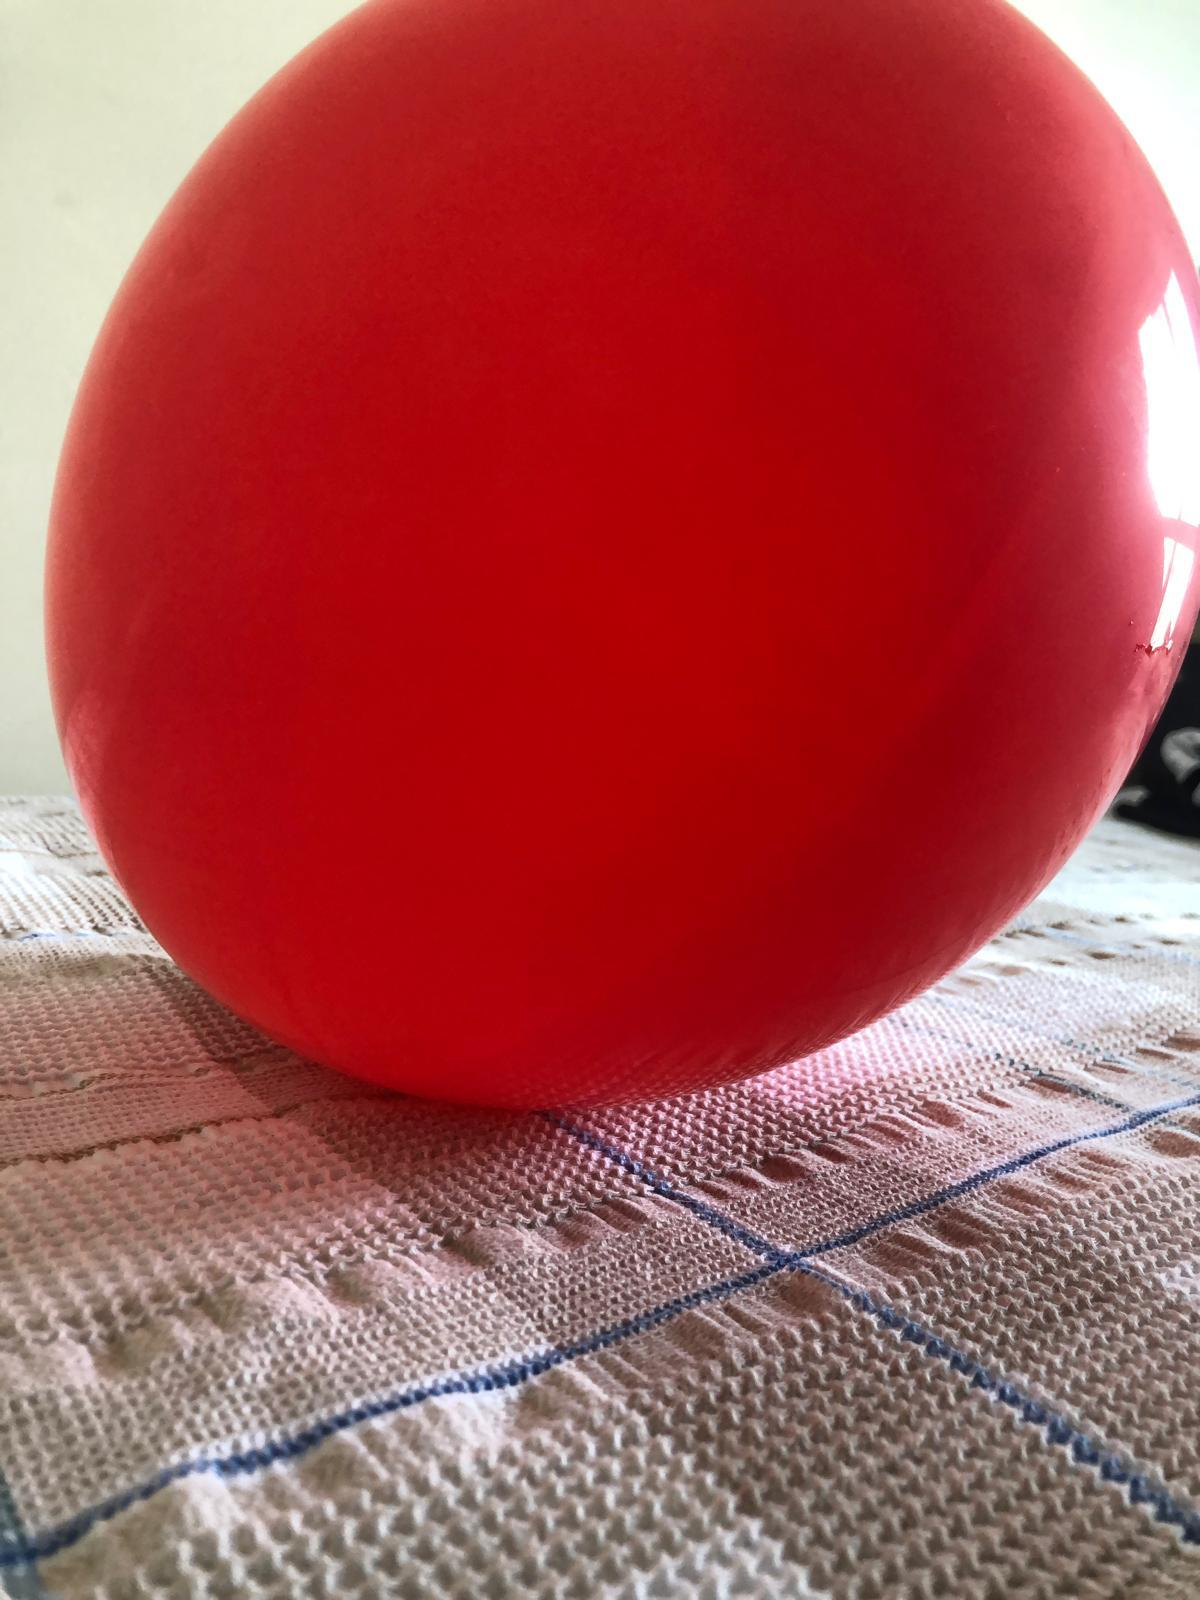red: (40, 10, 1200, 1124)
